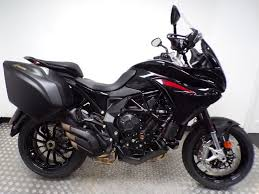motorcycle: (1, 4, 254, 192)
